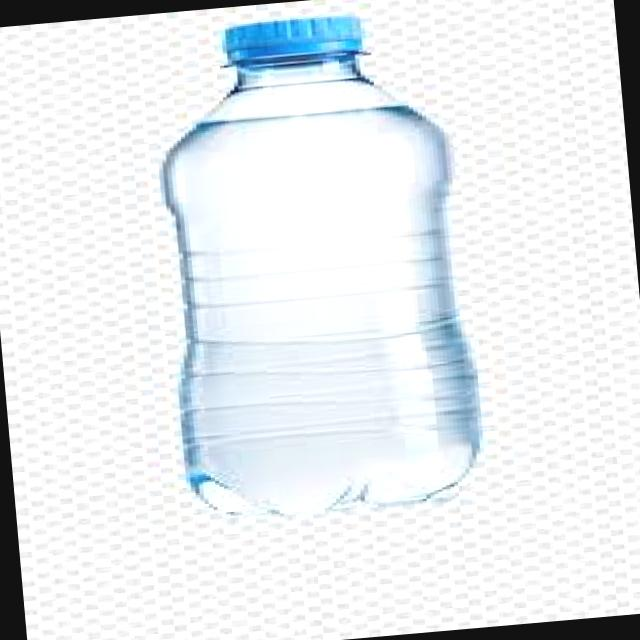bottle: (164, 15, 479, 515)
plastic: (223, 15, 362, 62)
